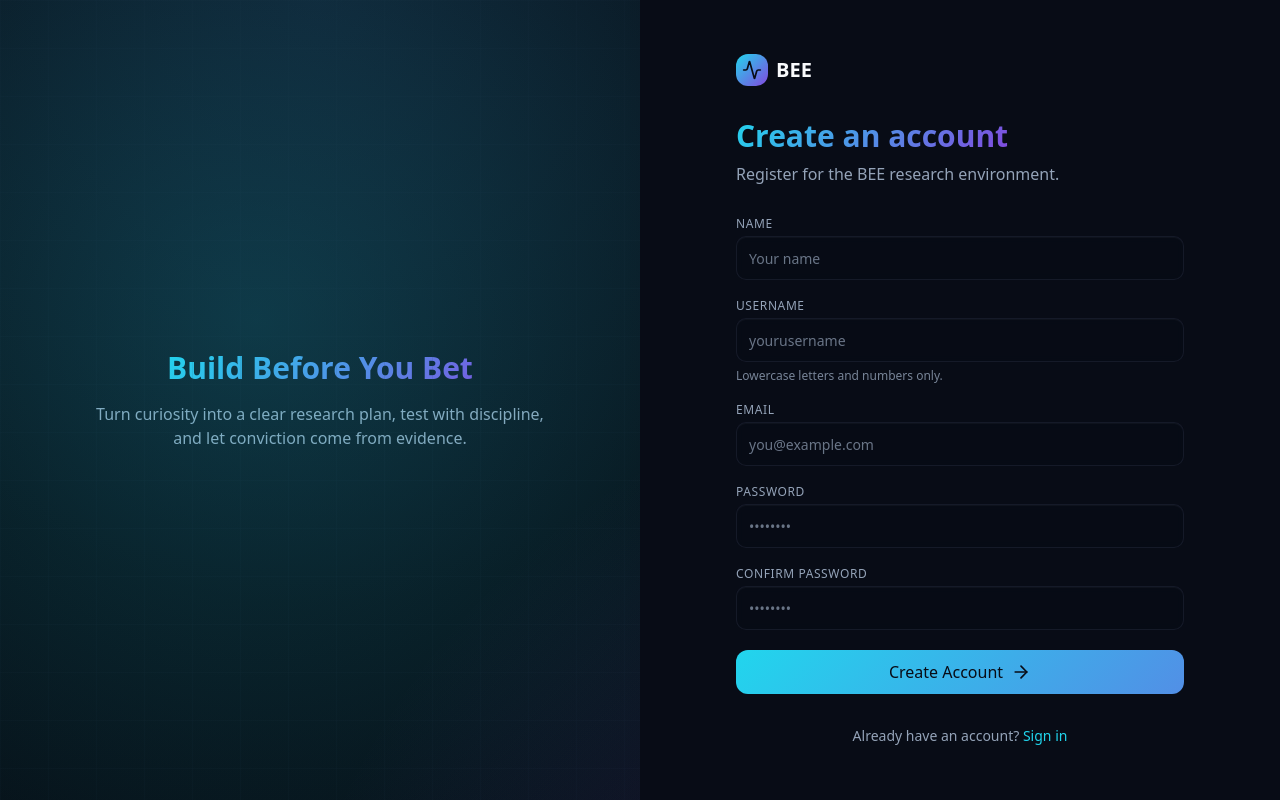
Test case: RegistrationView › shows validation errors and blocks submit when invalid
Click the button "Create Account": (960, 672) 736,650 -> 1184,694
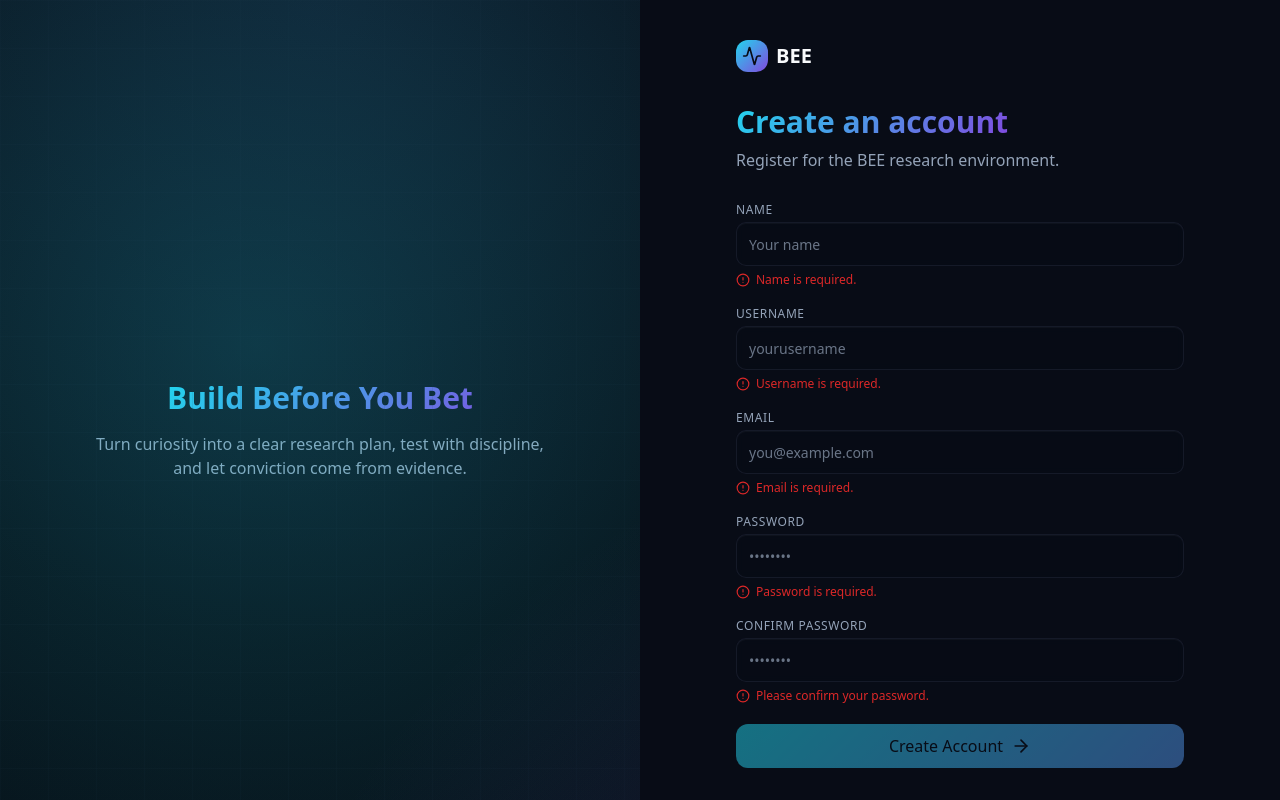
expect the text "Name is required." is shown: met, box 756,272 -> 856,288
expect the text "Username is required." is shown: met, box 756,376 -> 881,392
